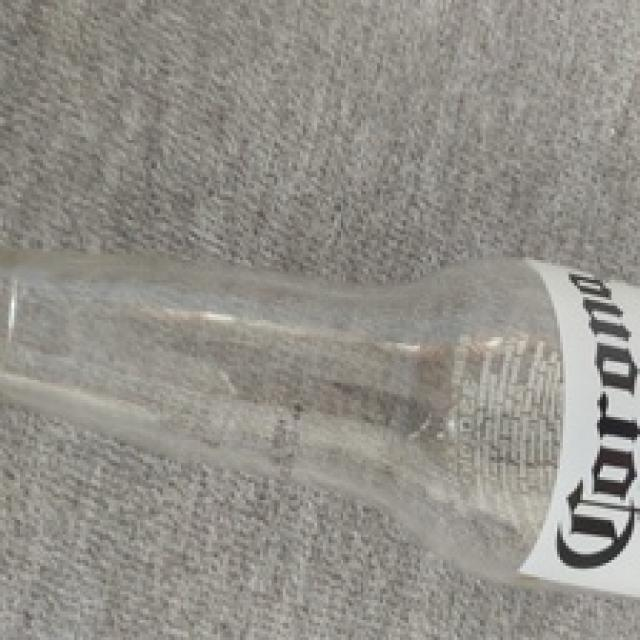BotolKaca: (1, 244, 638, 599)
